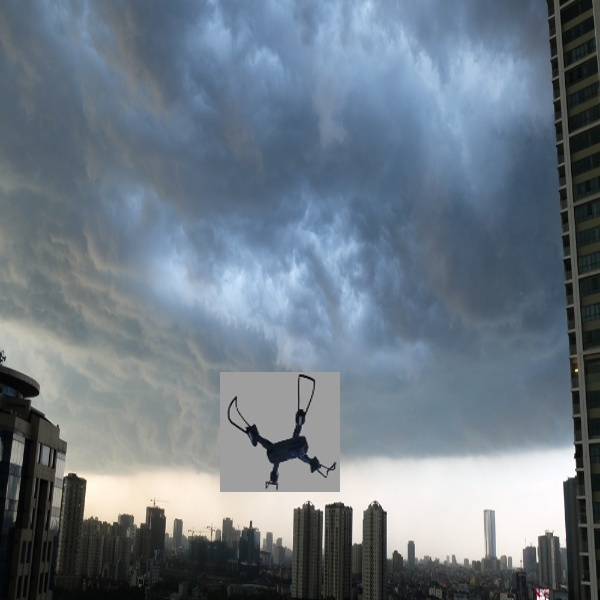drone: (228, 374, 339, 483)
